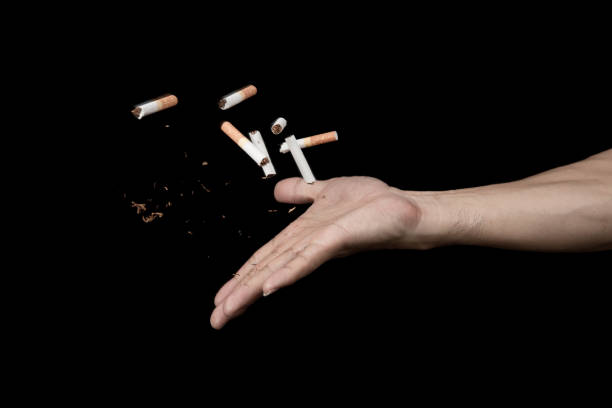cigarette: (220, 120, 270, 168), (285, 135, 316, 186), (247, 128, 277, 180), (279, 130, 339, 154), (130, 93, 179, 121), (217, 84, 258, 111), (271, 116, 288, 135)
